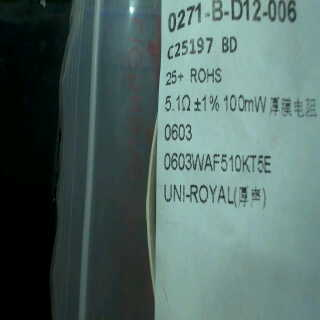5.1R: (163, 93, 194, 115)
